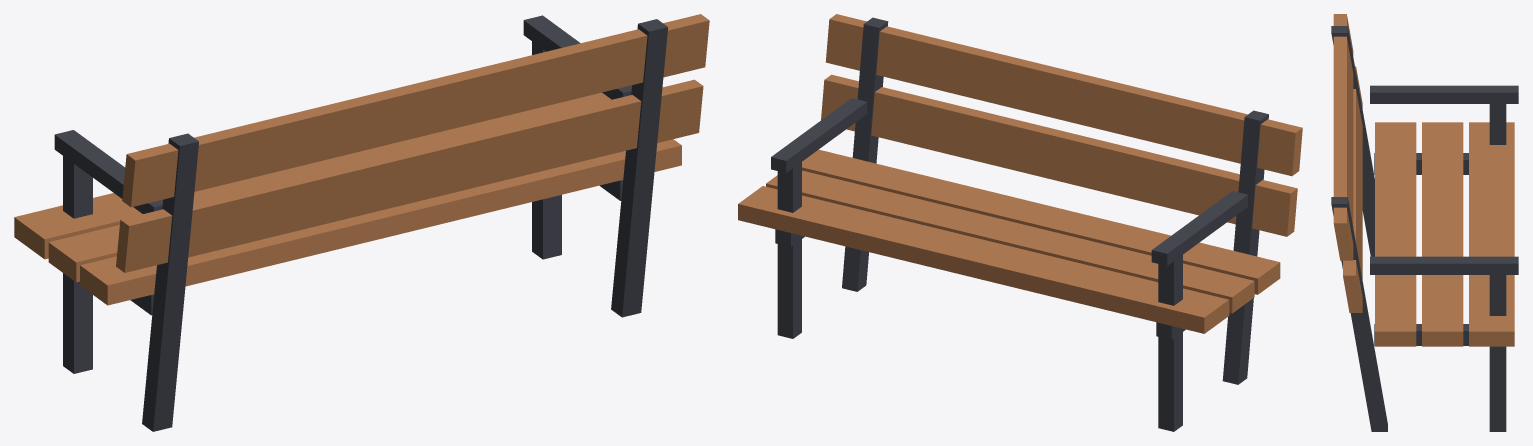
Rendered from Prop_Bench.fbx.
3 renders of one model, left to right at view 1: azimuth 30°, elevation 25°; view 2: azimuth 150°, elevation 25°; view 3: azimuth 270°, elevation 25°, orthographic. The views are drawn at different scales.
Visible parts, largest first — view 1: Prop_Bench; view 2: Prop_Bench; view 3: Prop_Bench.
Boxes of the visible parts, x1,y1,x2,y2 form: Prop_Bench: (14,14,709,431); Prop_Bench: (738,14,1302,431); Prop_Bench: (1331,14,1518,431).
Size of the model in its own units: 600 by 305 by 227.
1 material, 1 textured.
